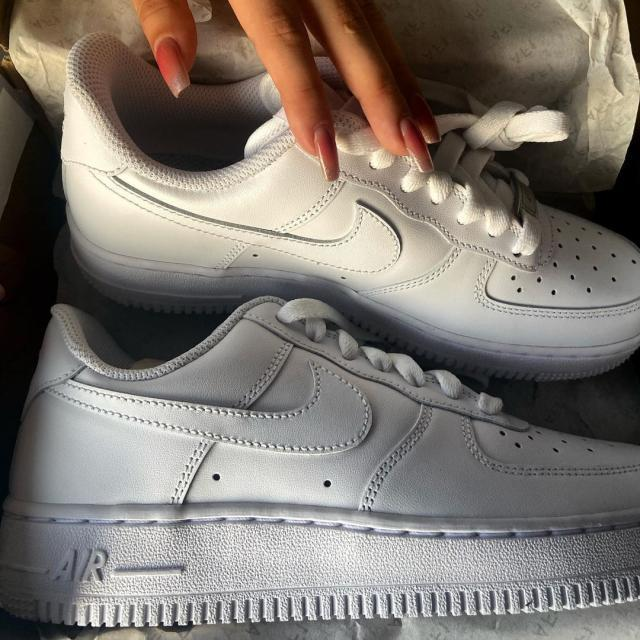nike original air force: (0, 302, 640, 628), (44, 45, 636, 391)
